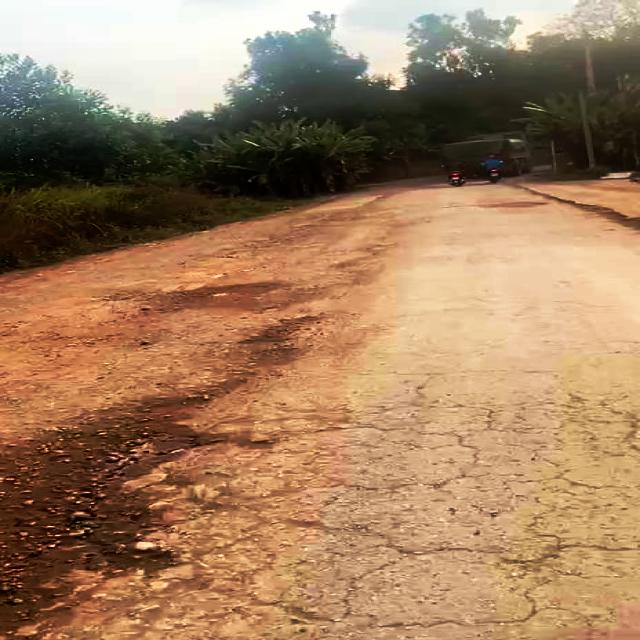pothole: (48, 422, 222, 580)
